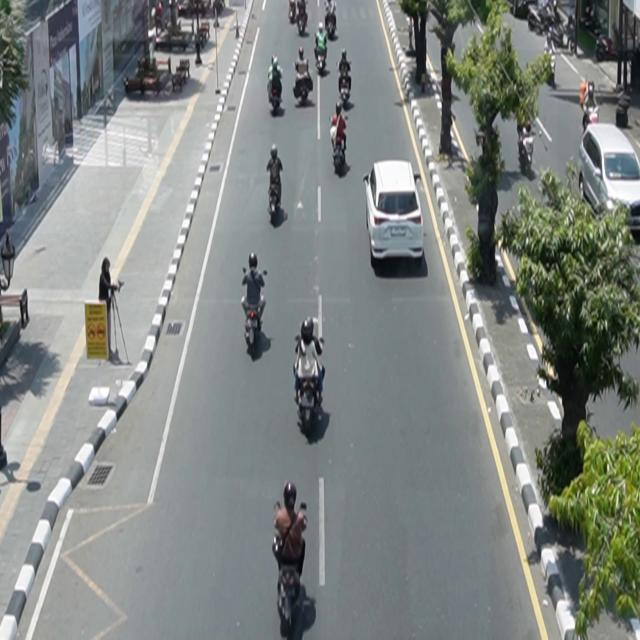car: (579, 123, 640, 242), (364, 160, 425, 266)
